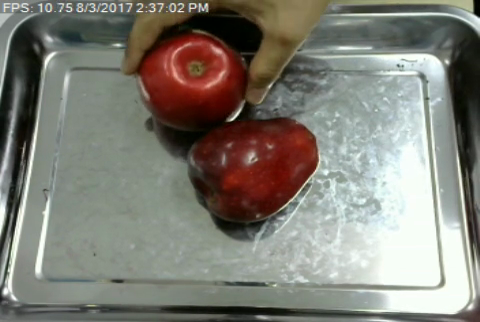Apple: (182, 110, 325, 229), (137, 23, 250, 133)
